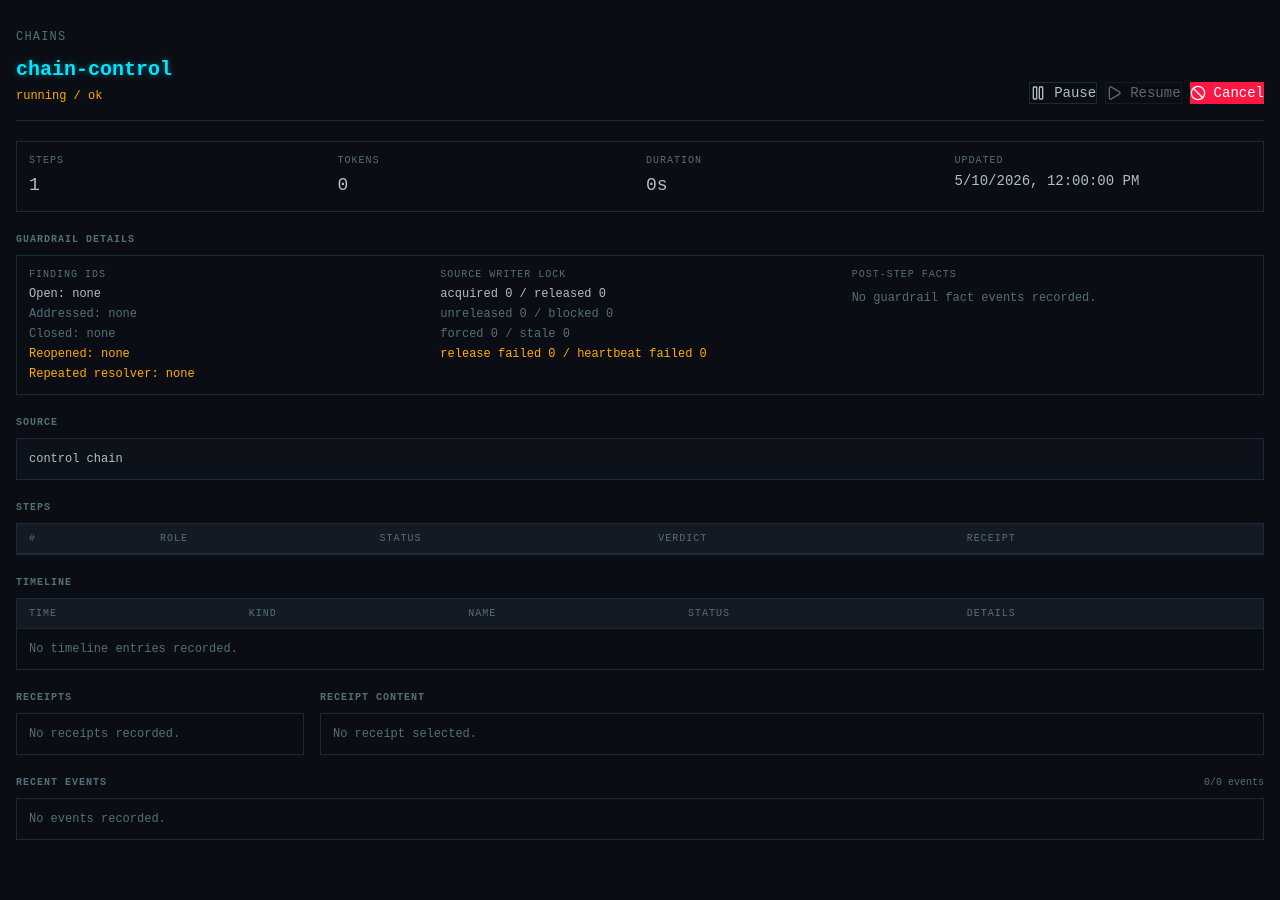
Test: ChainDetailPage › runs chain controls from the detail header and refreshes the chain
The image size is (1280, 900).
Expected: the text "running / ok" is shown, [16, 89, 102, 103]
Click the button "Pause": (1063, 93) [1029, 82, 1097, 104]
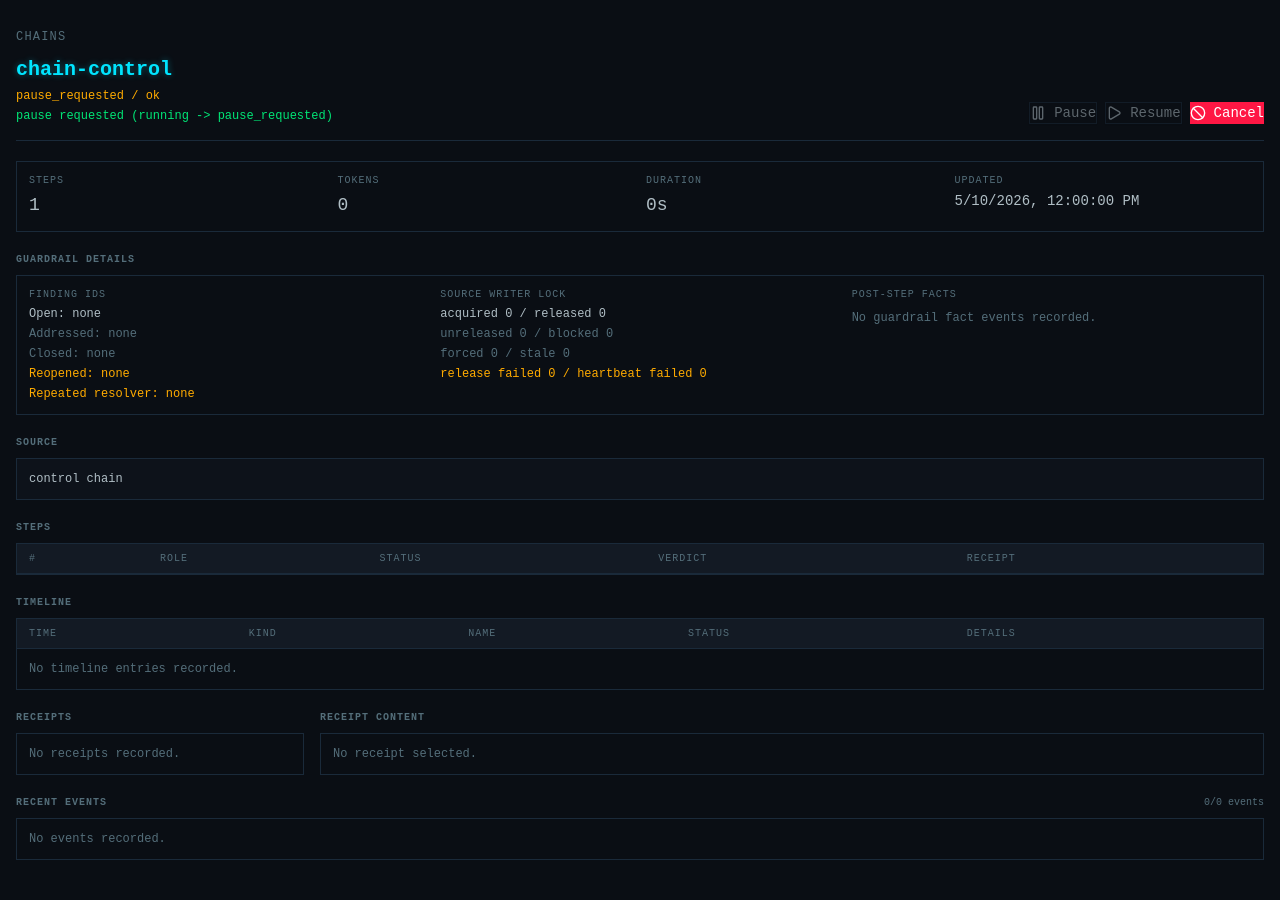
Result: the text "pause requested (running -> pause_requested)" is shown at [16, 108, 333, 124]
Result: the text "pause_requested / ok" is shown at [16, 89, 160, 103]
